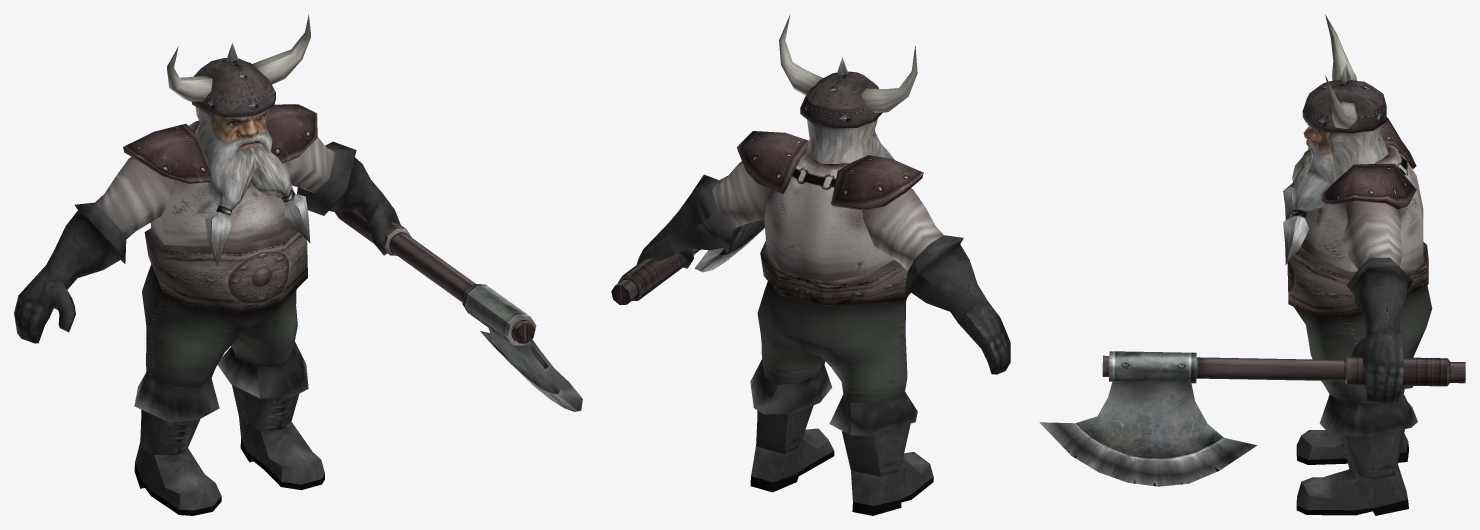
Rendered from dwarf.fbx.
The picture shows the model from 3 angles, left to right: view 1: azimuth 30°, elevation 25°; view 2: azimuth 150°, elevation 25°; view 3: azimuth 270°, elevation 25°; orthographic projection. The views are drawn at different scales.
Parts seen in each view (by area): view 1: Mesh02, Mesh01; view 2: Mesh02, Mesh01; view 3: Mesh02, Mesh01.
Boxes of the visible parts, x1,y1,x2,y2 form: Mesh02: (14, 14, 400, 515); Mesh01: (335, 211, 582, 411); Mesh02: (636, 14, 1010, 515); Mesh01: (611, 219, 764, 304); Mesh02: (1283, 14, 1432, 515); Mesh01: (1039, 351, 1465, 486).
Bounding box in the file's own units: 5.52 × 5.9 × 5.22.
